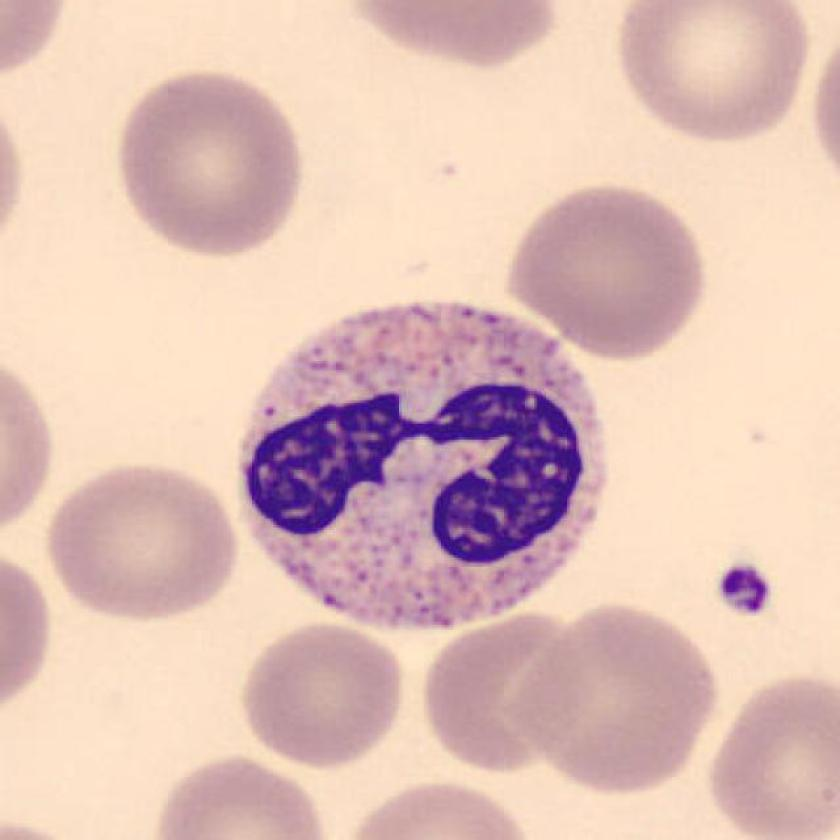neutrophil: (237, 304, 609, 627)
